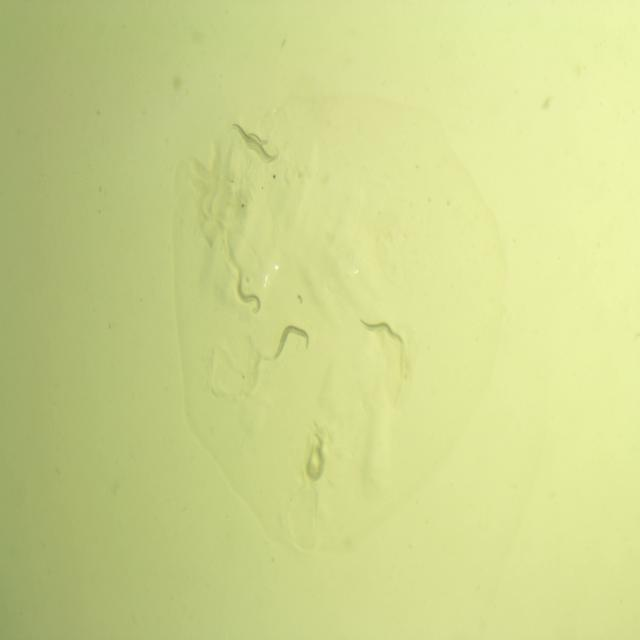worm: (357, 298, 405, 358), (228, 114, 282, 165), (267, 320, 324, 368), (233, 267, 266, 322), (302, 430, 331, 488), (242, 126, 275, 167)
